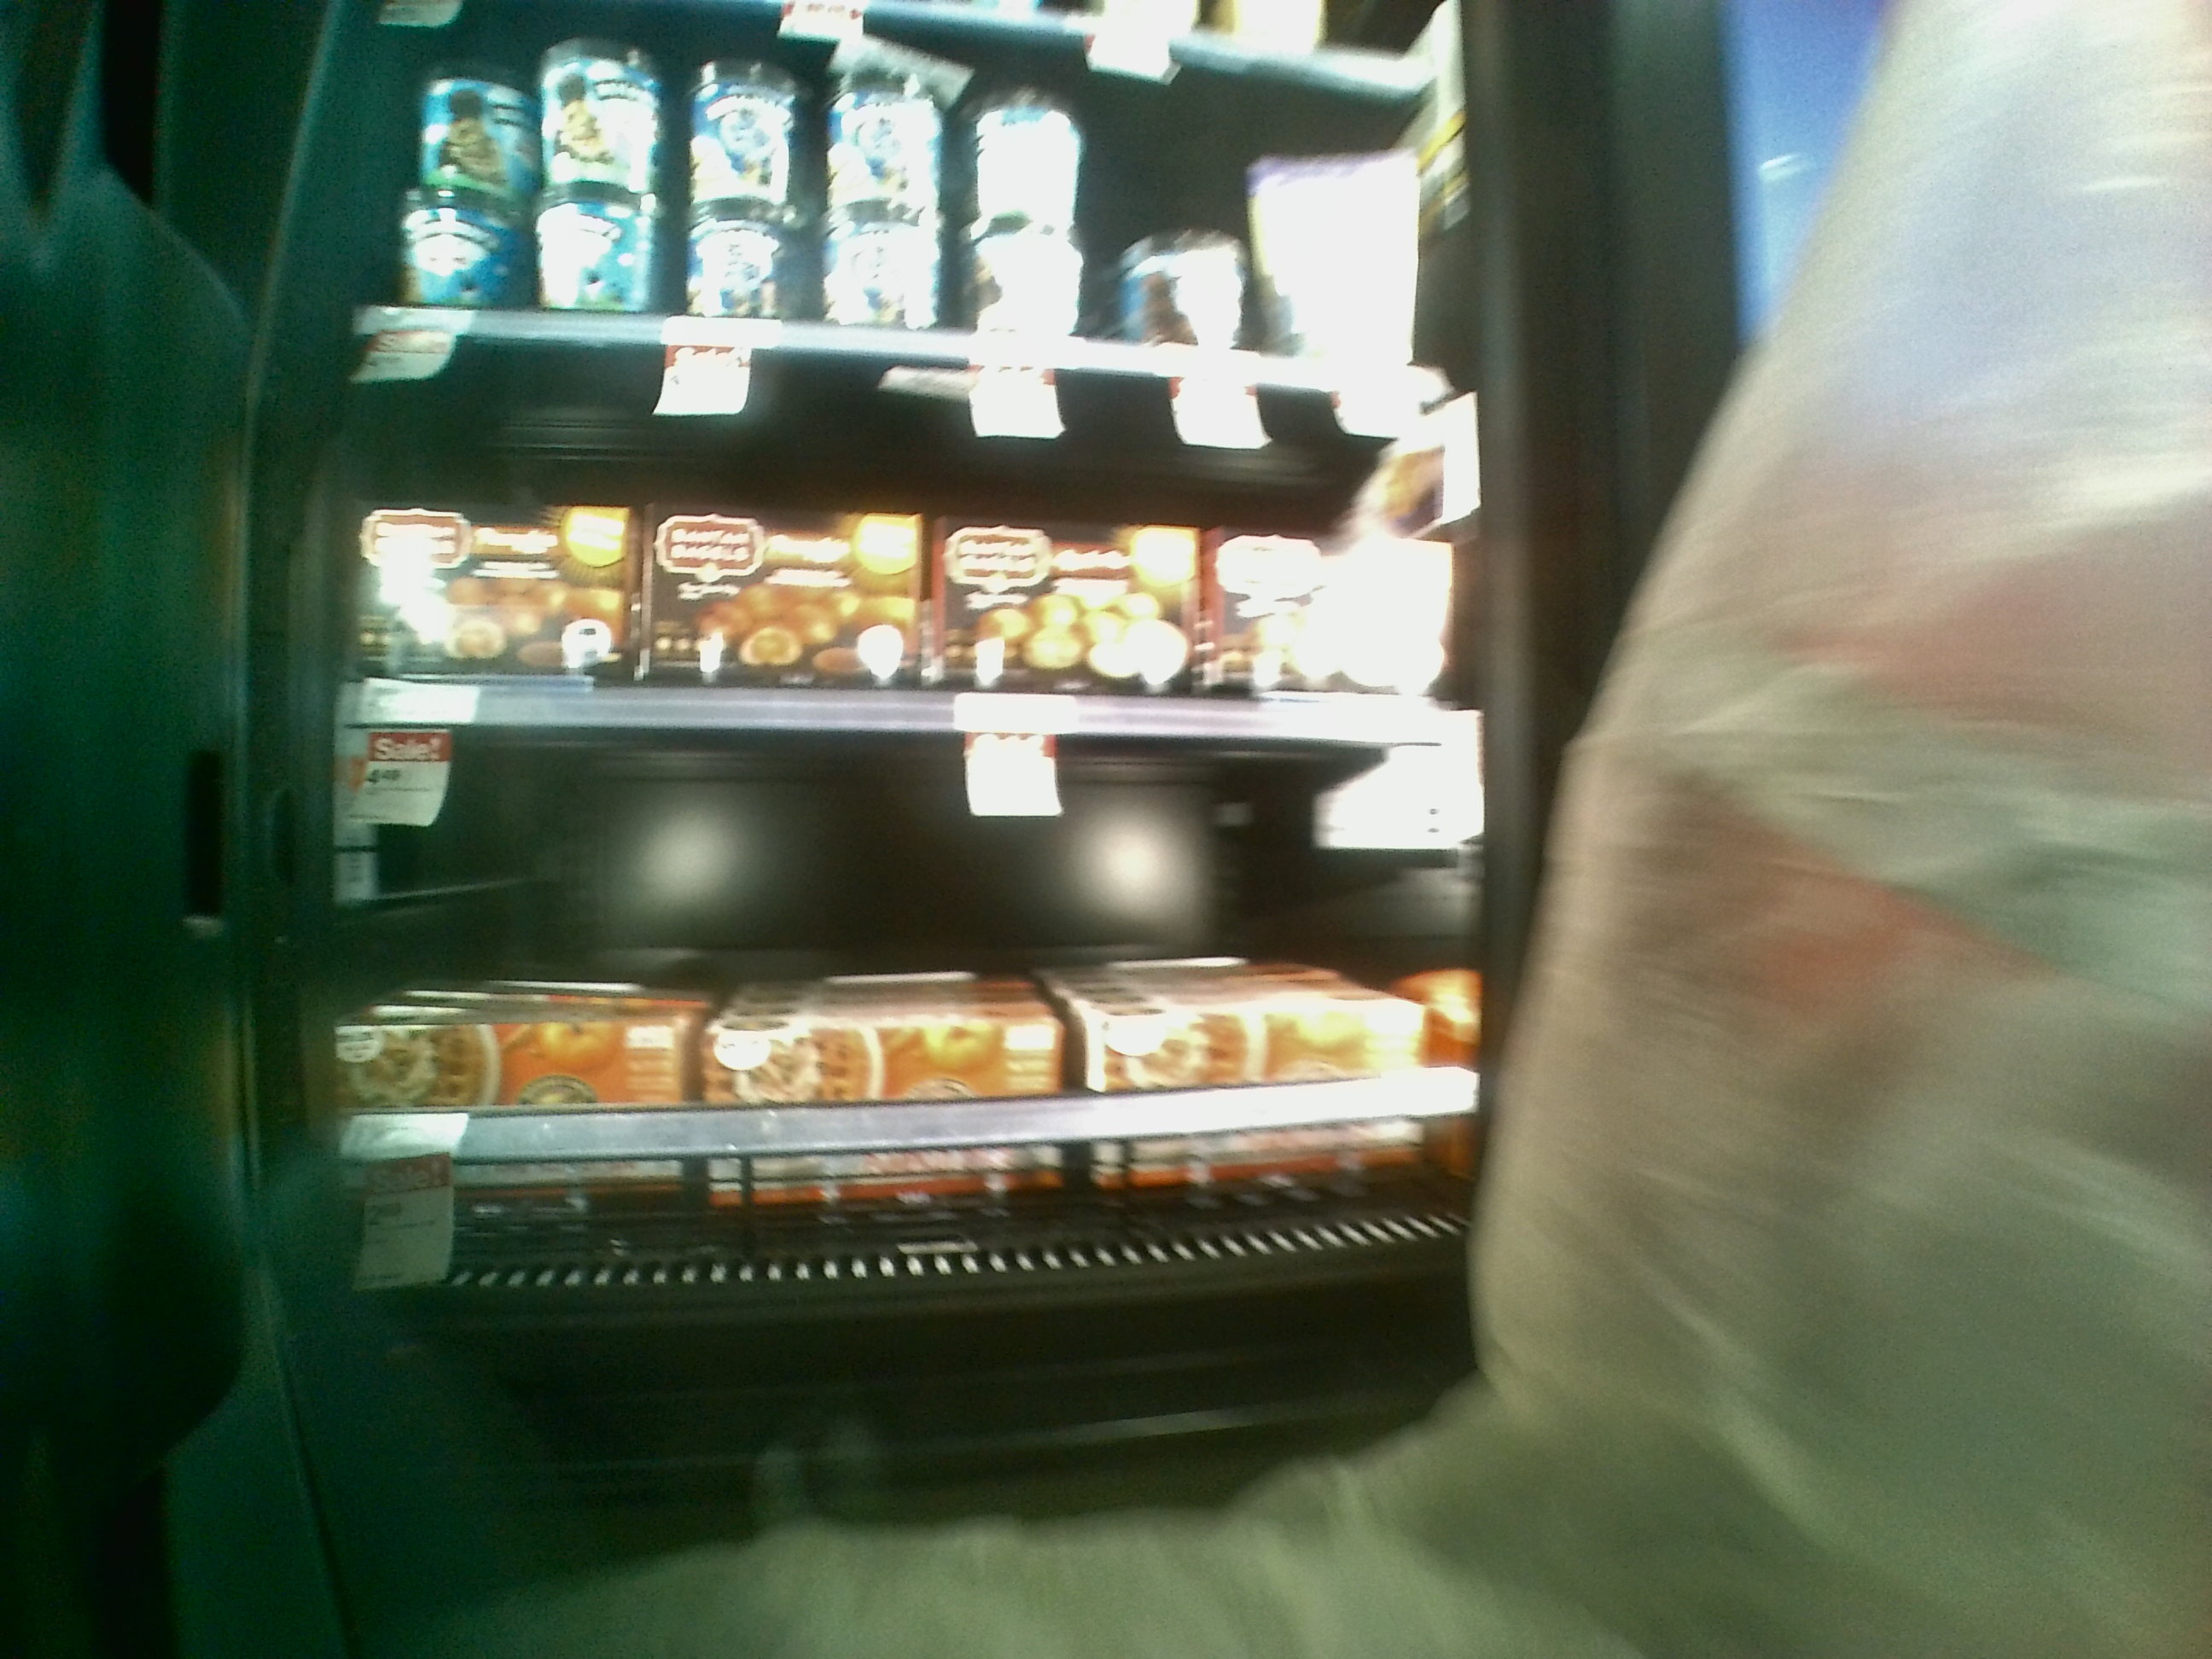shelf: (298, 695, 1524, 1298), (333, 300, 1507, 758)
